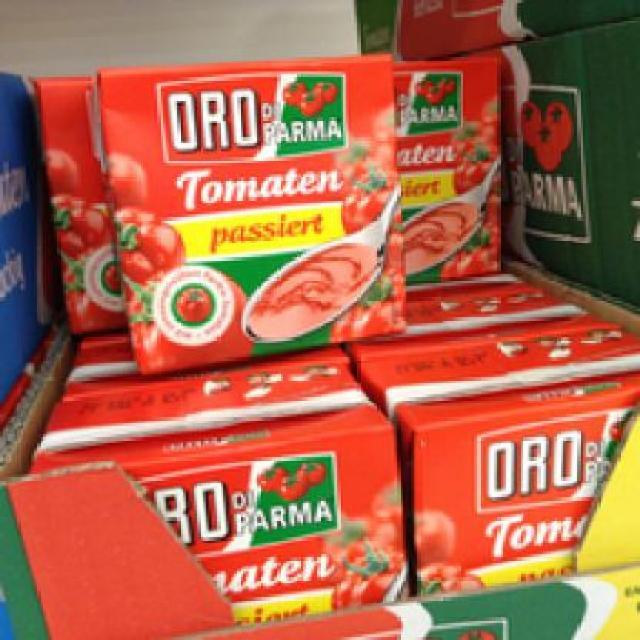Tomato Sauce: (93, 49, 410, 372), (26, 363, 414, 608), (352, 314, 638, 592)
